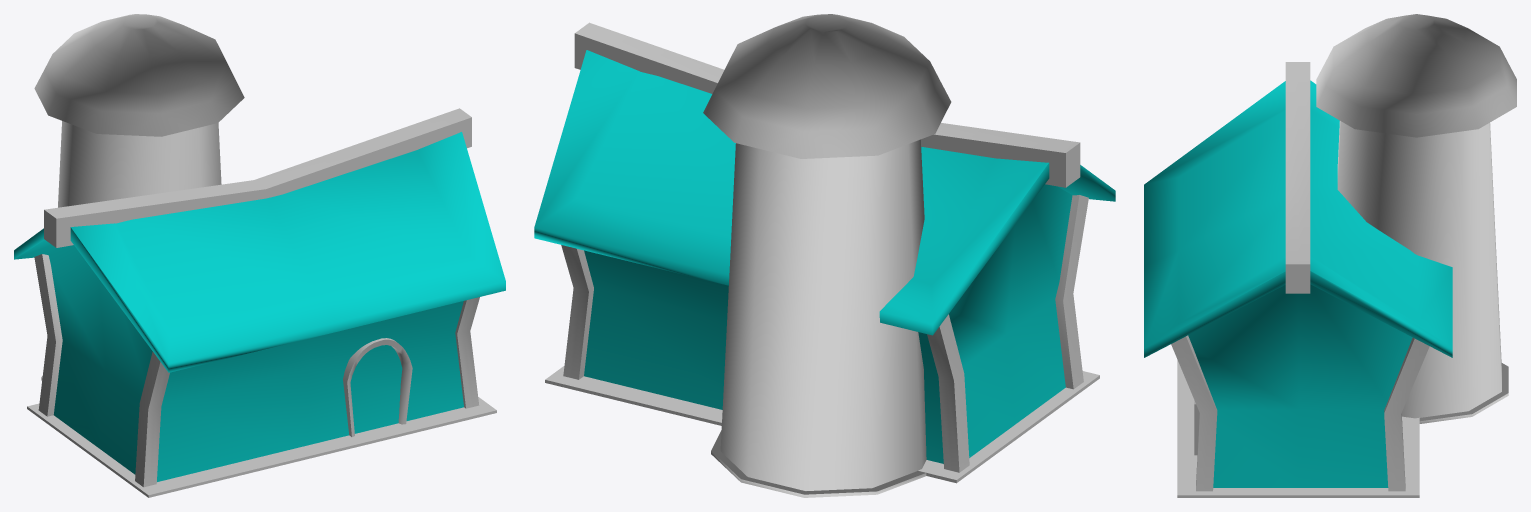
File: house_1.obj
3 renders of one model, left to right at view 1: azimuth 30°, elevation 25°; view 2: azimuth 150°, elevation 25°; view 3: azimuth 270°, elevation 25°, orthographic. The views are drawn at different scales.
Parts seen in each view (by area): view 1: Cube, Extrude.1, vig, Extrude_1, Cube.1, Cube.1_1, Cube.2, Extrude, Cube.1_2; view 2: Cube, Extrude_1, Extrude.1, vig, Cube.1, Cube.2, Cube.1_1, Cube.2_1; view 3: Cube, Extrude_1, Extrude.1, vig, Cube.1, Cube.1_2, Cube.2_1.
Boxes of the visible parts, x1,y1,x2,y2 form: Cube: (14,132,505,481); Extrude.1: (34,14,244,136); vig: (44,108,471,247); Extrude_1: (41,121,221,380); Cube.1: (27,397,496,497); Cube.1_1: (135,351,169,487); Cube.2: (34,254,62,416); Extrude: (343,338,412,436); Cube.1_2: (455,297,479,408); Cube: (534,50,1115,463); Extrude_1: (711,139,926,497); Extrude.1: (703,14,951,158); vig: (574,22,1080,187); Cube.1: (545,365,1099,483); Cube.2: (927,314,969,472); Cube.1_1: (1055,195,1088,389); Cube.2_1: (561,245,593,379); Cube: (1144,80,1452,487); Extrude_1: (1337,121,1508,423); Extrude.1: (1316,14,1516,137); vig: (1285,62,1310,293); Cube.1: (1177,360,1419,497); Cube.1_2: (1171,335,1217,491); Cube.2_1: (1384,337,1429,491).
Bounding box in the file's own units: 474 × 401 × 369.
